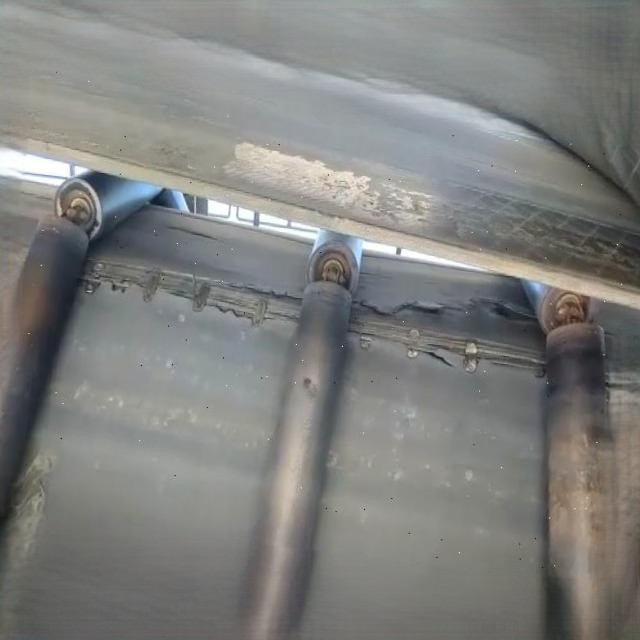Tear: (78, 242, 309, 336), (348, 290, 555, 382), (585, 328, 640, 421)
Wear: (2, 448, 60, 528)
